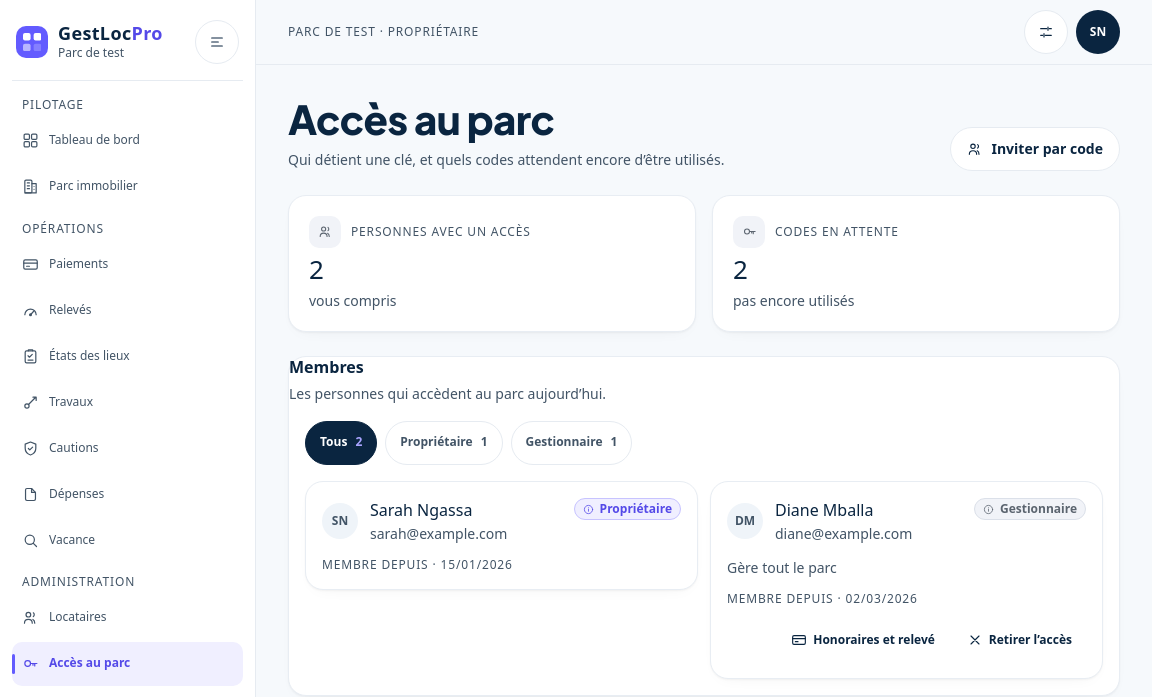
Test: le registre des accès › retire un accès, puis relit le registre auprès du serveur
Click the button "Retirer l’accès" at (1019, 640), box [953,618,1086,662]
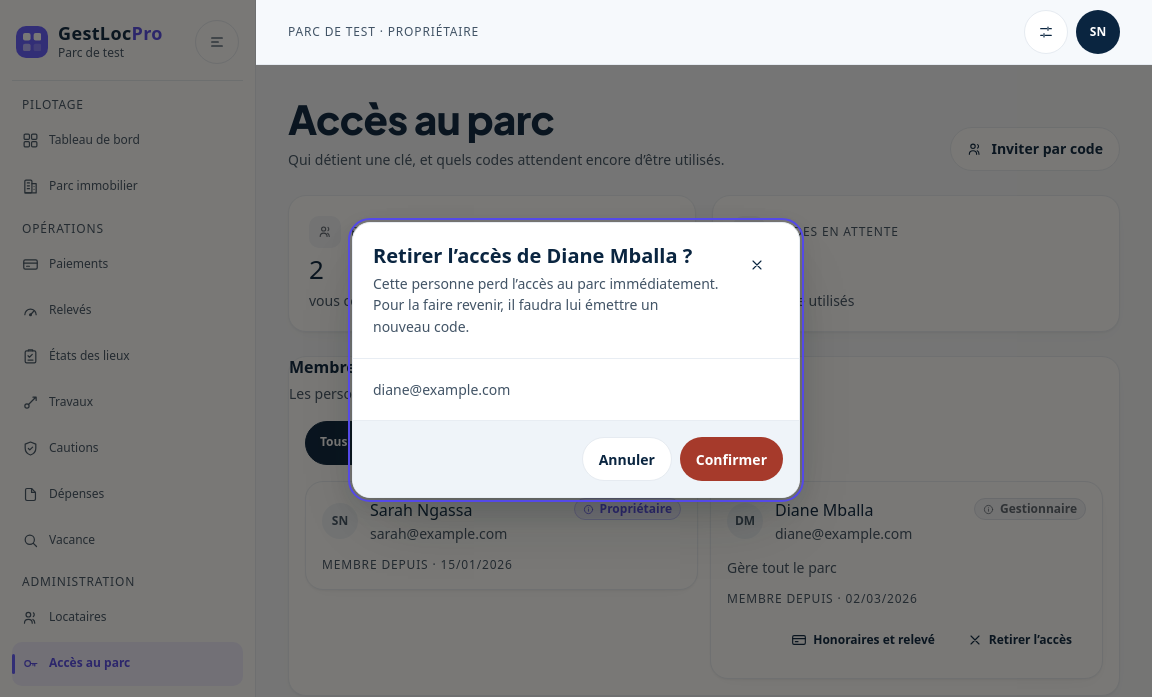
Click the button "Confirmer" at (731, 459), box [680,437,783,481]
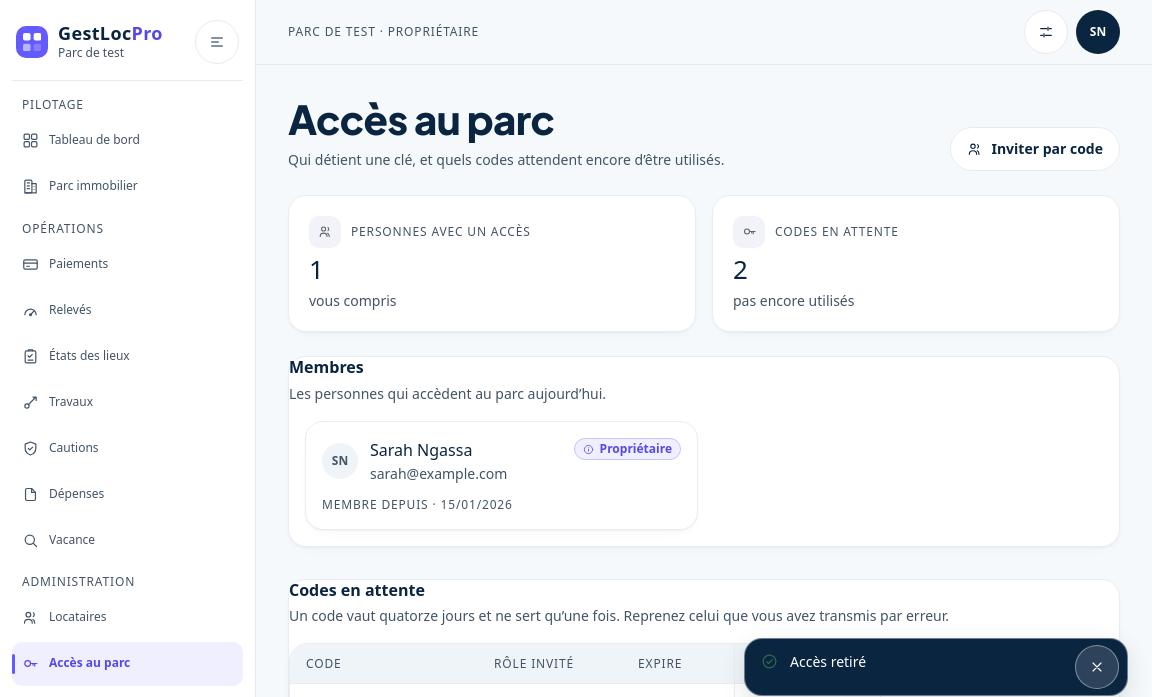
Check: the text "Accès retiré" is shown, box [790,652,866,671]
Check: the text "Diane Mballa" is gone
